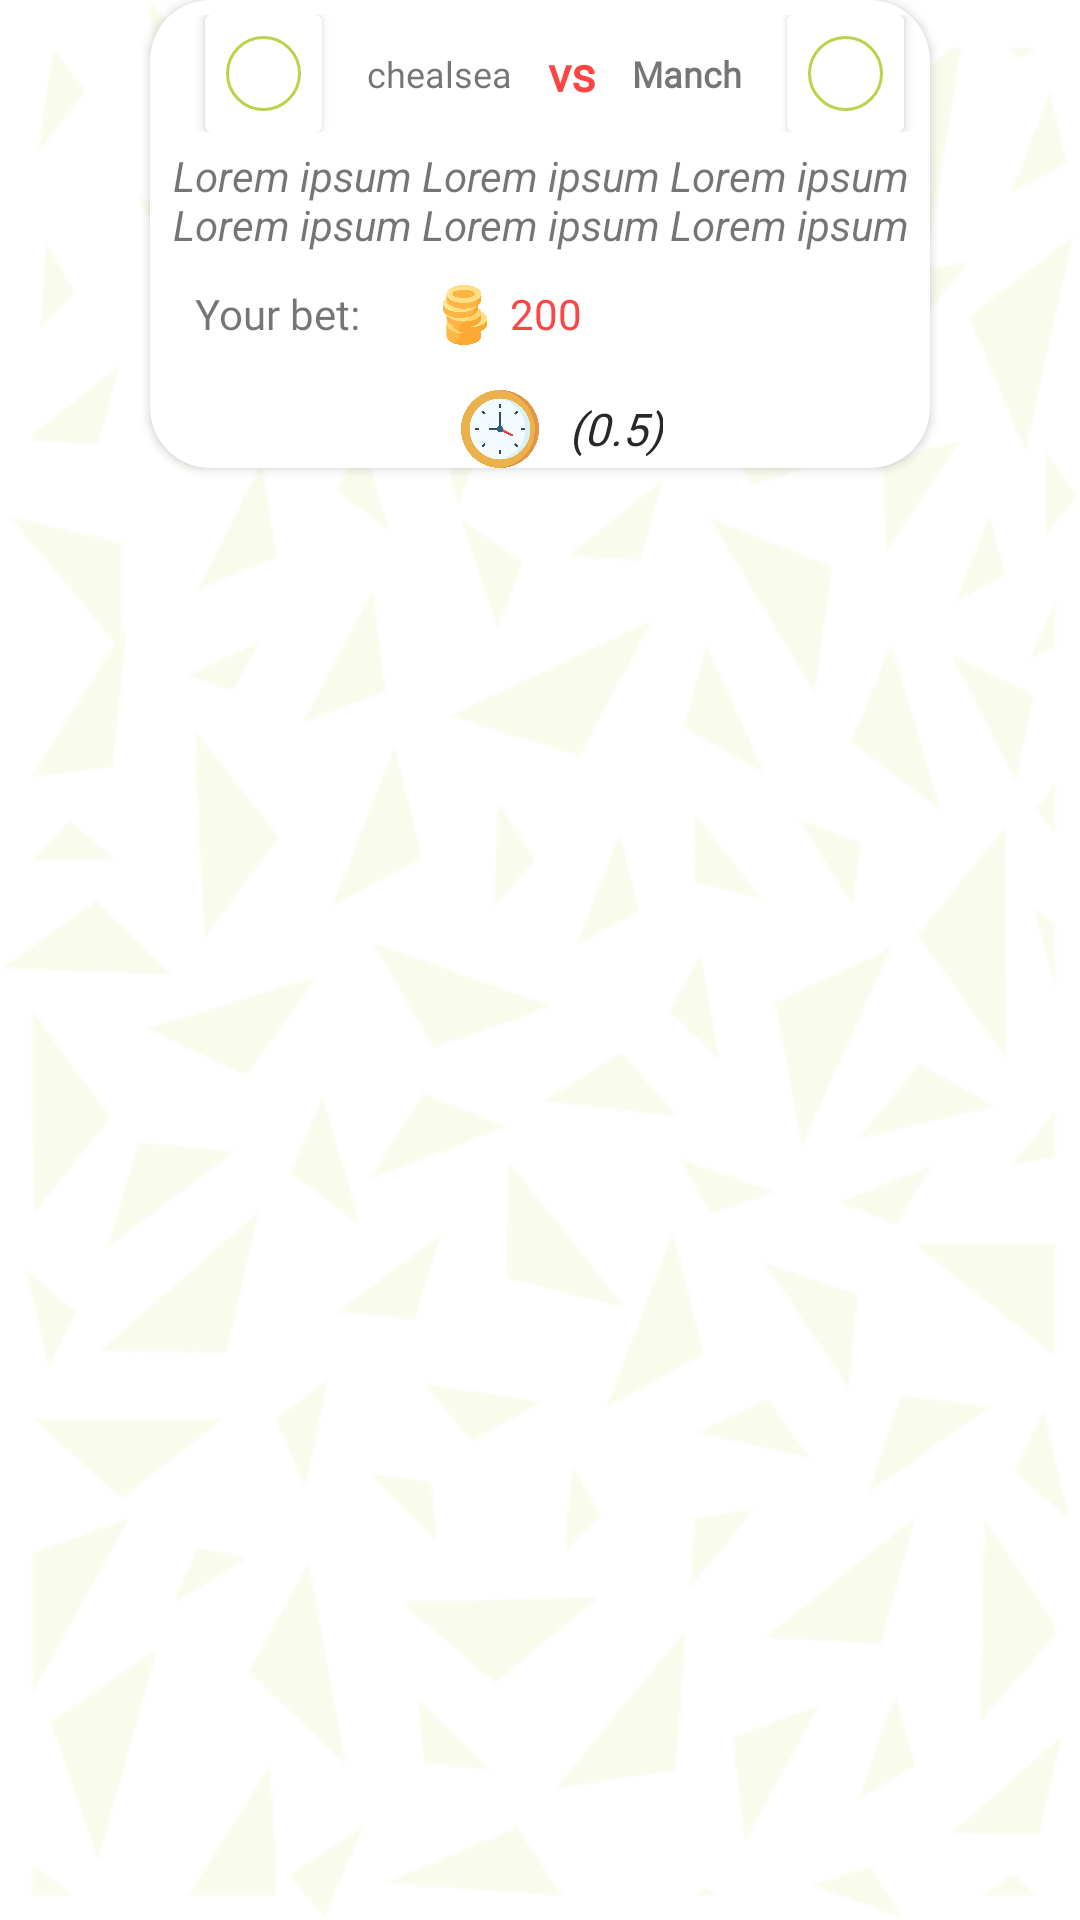

Icons on this 1080x1920 Android screen, each with the point to tap as point (x, y):
clock: point (500, 429)
token: point (465, 315)
